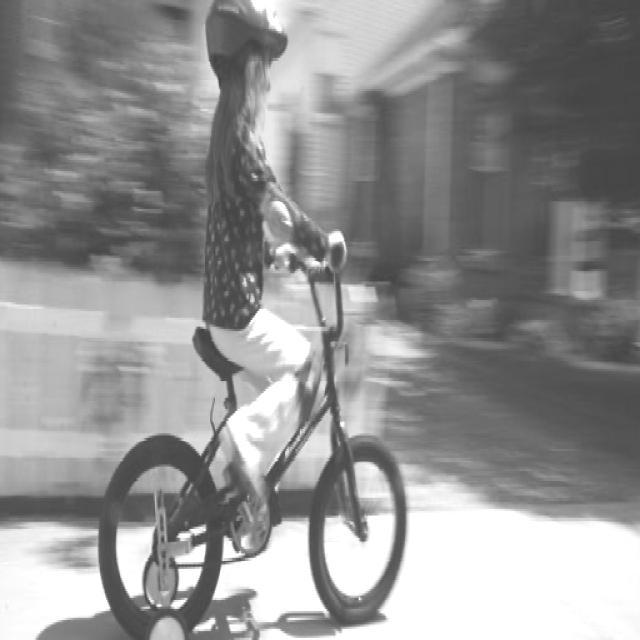Helmet: (199, 0, 285, 93)
